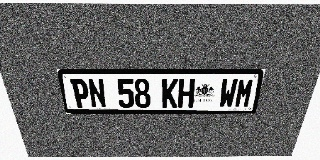5: (117, 79, 135, 108)
8: (134, 79, 151, 108)
H: (178, 79, 195, 108)
K: (162, 79, 178, 108)
M: (234, 79, 255, 108)
N: (87, 79, 107, 108)
P: (70, 79, 91, 108)
W: (218, 79, 238, 108)
